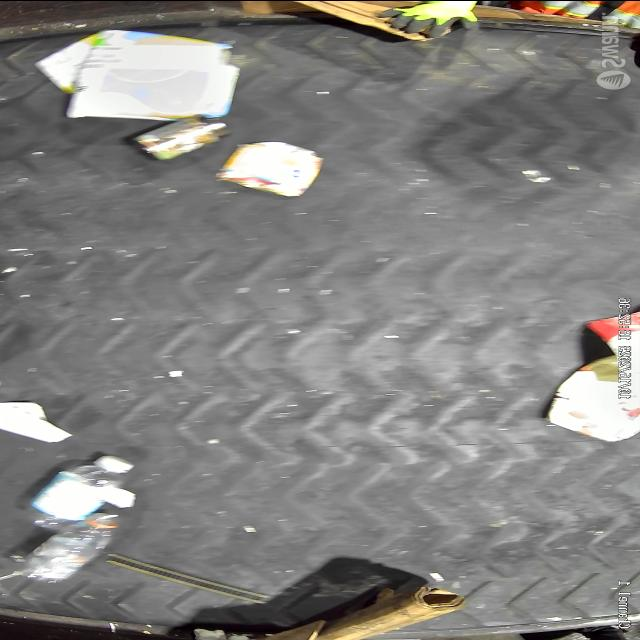can: (216, 139, 324, 196), (133, 114, 231, 160)
plastic_bottle: (27, 454, 135, 530), (24, 512, 120, 582)
